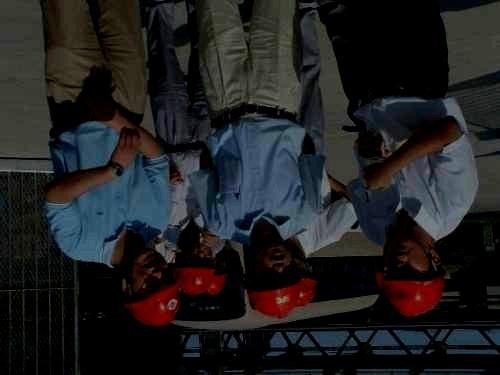helmet: (382, 233, 445, 316), (120, 247, 182, 327), (245, 237, 304, 321), (176, 243, 215, 294), (296, 260, 319, 306), (208, 272, 230, 295)
